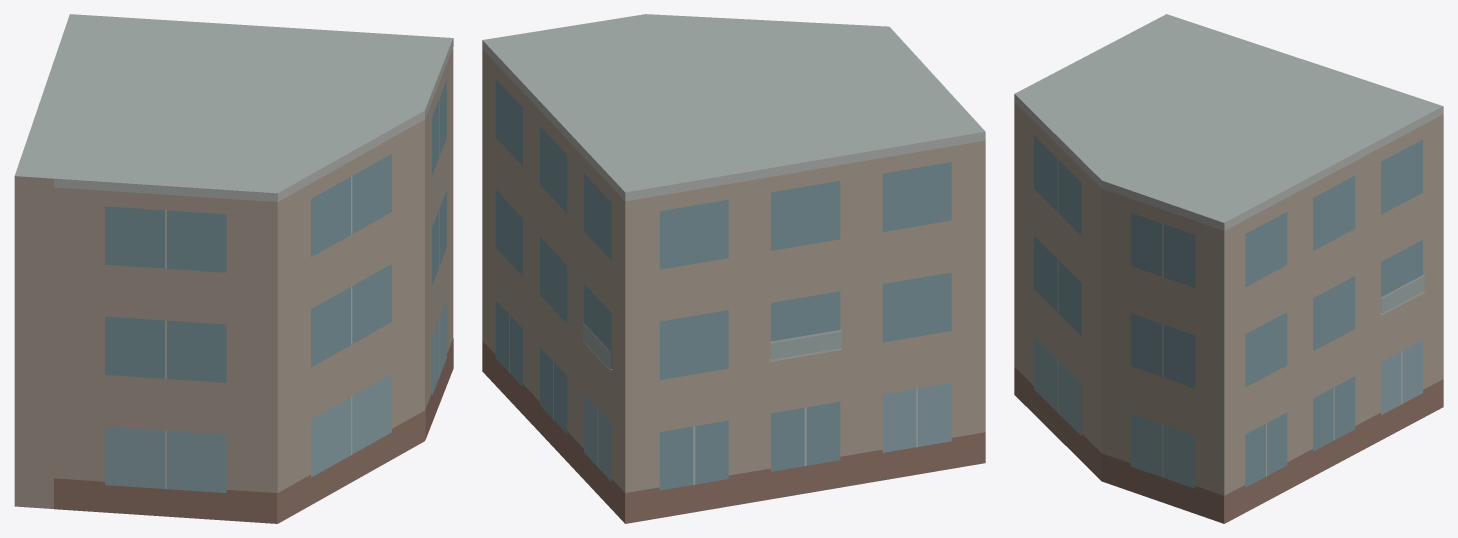
The model's file is survey-upis-32754220.glb.
3 renders of one model, left to right at view 1: azimuth 30°, elevation 25°; view 2: azimuth 150°, elevation 25°; view 3: azimuth 270°, elevation 25°, orthographic. The views are drawn at different scales.
Parts seen in each view (by area): view 1: survey-upis-32754220.tmp; view 2: survey-upis-32754220.tmp; view 3: survey-upis-32754220.tmp.
Boxes of the visible parts, bbox=[...] form: survey-upis-32754220.tmp: bbox=[14, 14, 453, 523]; survey-upis-32754220.tmp: bbox=[482, 14, 985, 523]; survey-upis-32754220.tmp: bbox=[1014, 14, 1443, 523].
Size of the model in its own units: 13.64 by 9.15 by 11.84.
